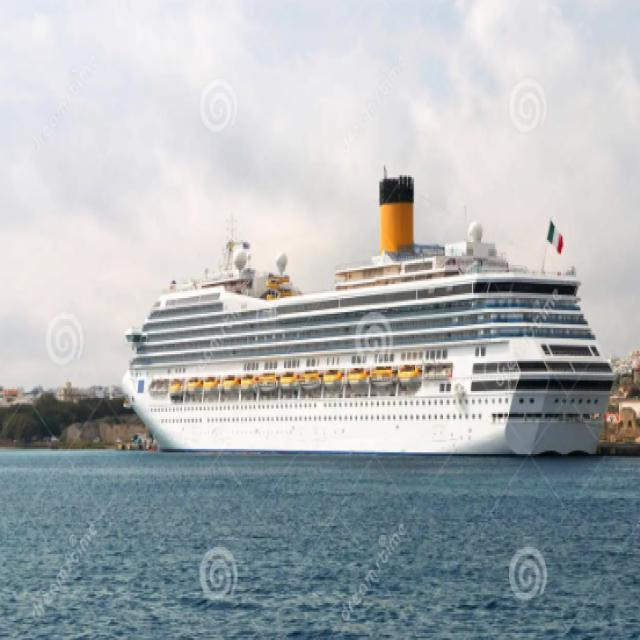passenger ship: (120, 148, 615, 462)
